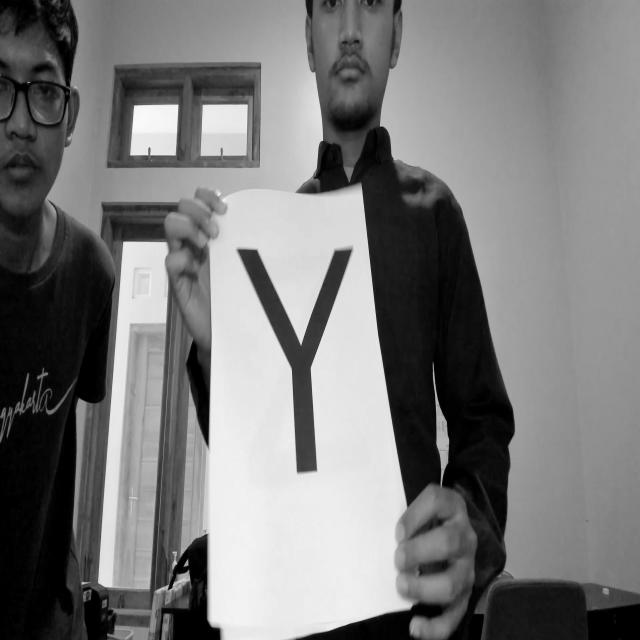y: (229, 228, 362, 501)
